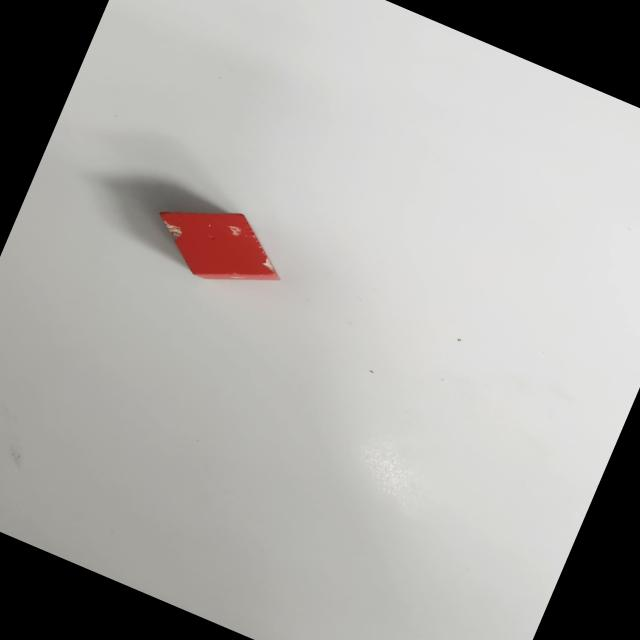broken: (142, 183, 297, 306)
